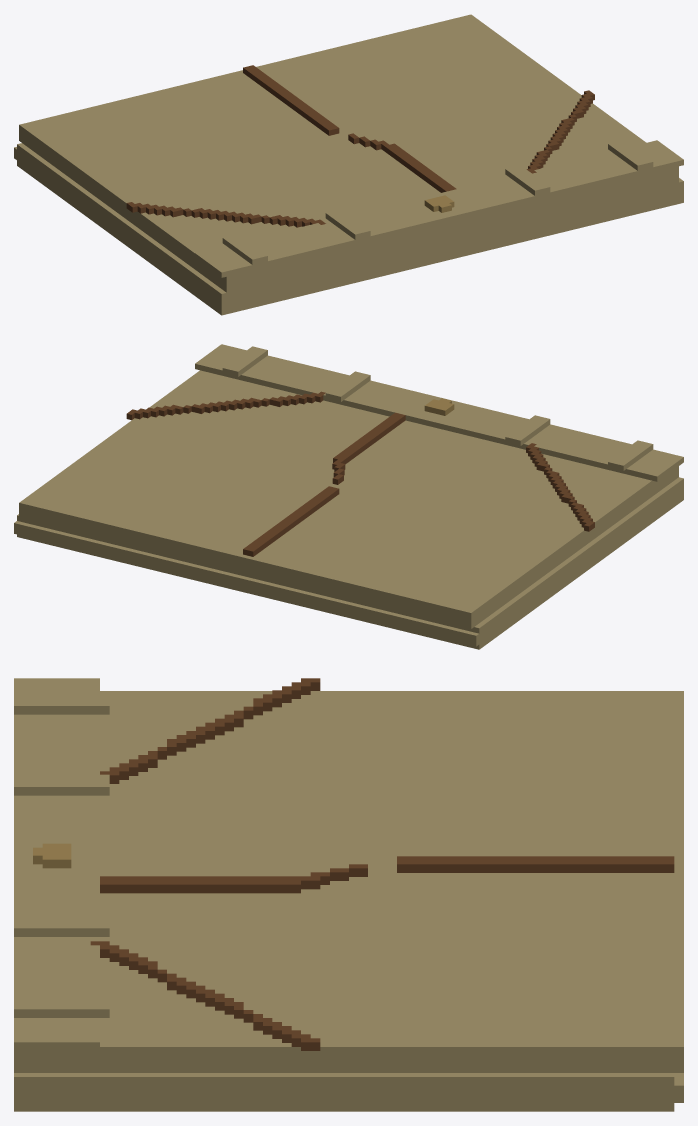
Rendered from shorts.glb.
The picture shows the model from 3 angles, top to bottom: view 1: azimuth 30°, elevation 25°; view 2: azimuth 150°, elevation 25°; view 3: azimuth 270°, elevation 25°; orthographic projection. The views are drawn at different scales.
Visible parts, largest first — view 1: shorts:compound; view 2: shorts:compound; view 3: shorts:compound.
Boxes of the visible parts, box(x1,y1,x2,y2) form: shorts:compound: box(14, 14, 683, 315); shorts:compound: box(14, 344, 683, 649); shorts:compound: box(14, 678, 683, 1111).
Bounding box in the file's own units: 0.36 × 0.036 × 0.28.
